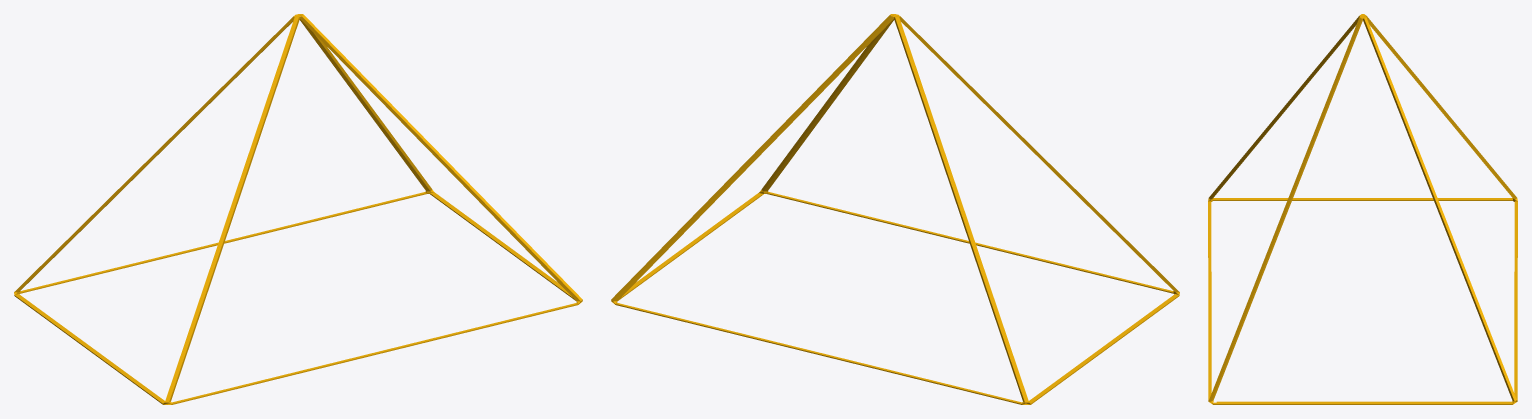
Rendered from realsense_FOV.dae.
3 views of the same model, side by side, from view 1: azimuth 30°, elevation 25°; view 2: azimuth 150°, elevation 25°; view 3: azimuth 270°, elevation 25° (orthographic).
Parts seen in each view (by area): view 1: Plane; view 2: Plane; view 3: Plane.
Boxes of the visible parts, x1,y1,x2,y2 form: Plane: (14,14,582,404); Plane: (611,14,1179,404); Plane: (1208,14,1517,404).
Size of the model in its own units: 0.4633 by 0.2935 by 0.299.
